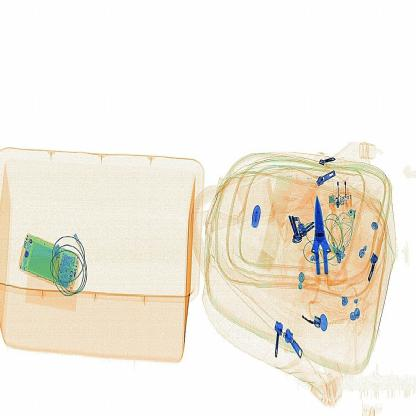gun: (290, 188, 355, 294)
